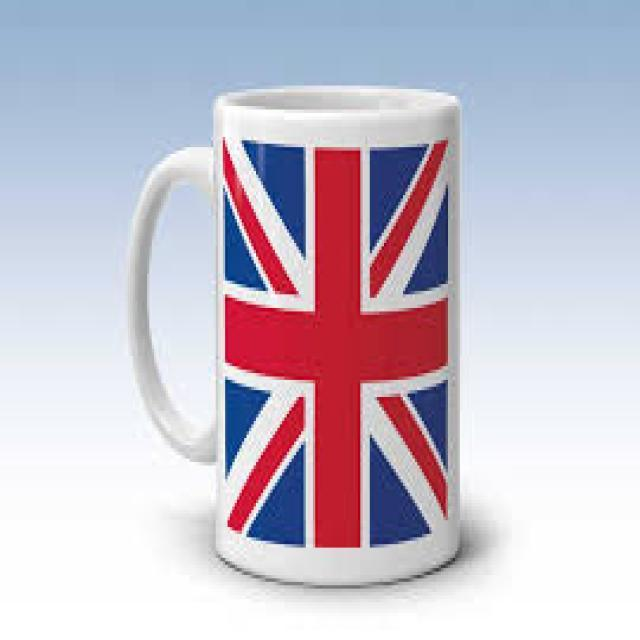taza: (127, 85, 462, 591)
